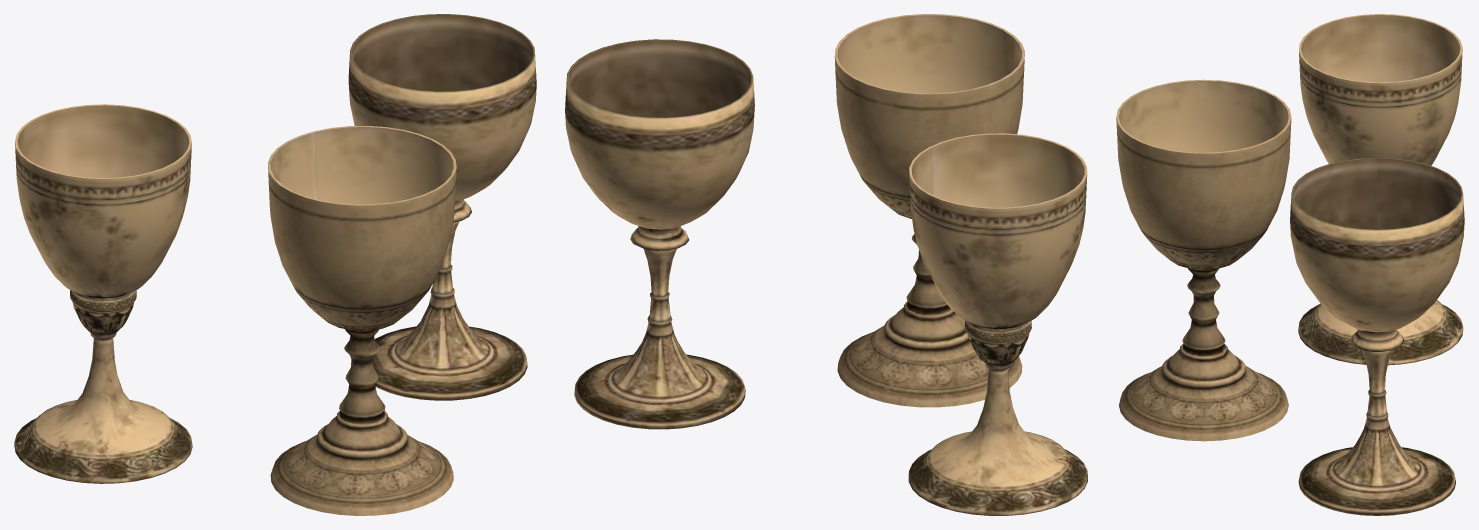
The model's file is ph_brass_goblets.glb.
3 views of the same model, side by side, from view 1: azimuth 30°, elevation 25°; view 2: azimuth 150°, elevation 25°; view 3: azimuth 270°, elevation 25° (orthographic). The views are drawn at different scales.
Parts seen in each view (by area): view 1: brass_goblet_01, brass_goblet_02, brass_goblet_03; view 2: brass_goblet_02, brass_goblet_03, brass_goblet_01; view 3: brass_goblet_01, brass_goblet_03, brass_goblet_02.
Boxes of the visible parts, box(x1,y1,x2,y2) form: brass_goblet_01: box(268, 126, 456, 515); brass_goblet_02: box(14, 104, 192, 483); brass_goblet_03: box(348, 14, 536, 400); brass_goblet_02: box(908, 133, 1087, 515); brass_goblet_03: box(565, 39, 754, 429); brass_goblet_01: box(834, 14, 1024, 407); brass_goblet_01: box(1116, 79, 1291, 441); brass_goblet_03: box(1290, 157, 1464, 515); brass_goblet_02: box(1298, 14, 1463, 365).
Bounding box in the file's own units: 0.4534 × 0.2734 × 0.2976.
3 materials, 3 textured.
